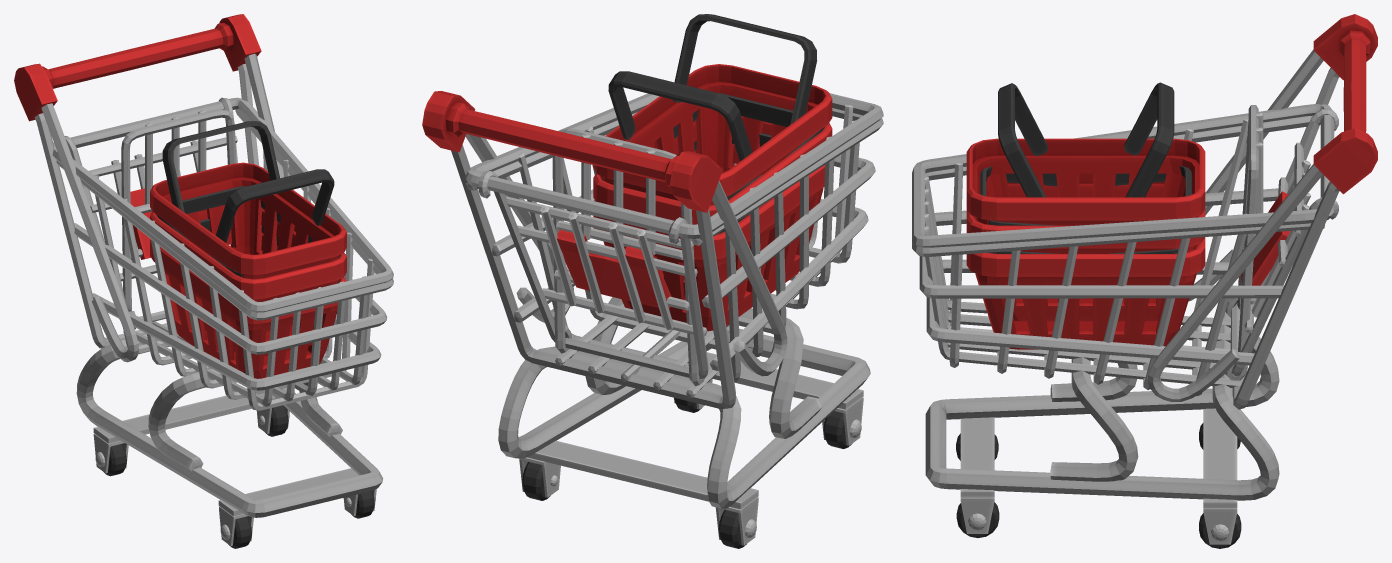
Rendered from SHOPPIING CART.fbx.
The picture shows the model from 3 angles, left to right: view 1: azimuth 30°, elevation 25°; view 2: azimuth 150°, elevation 25°; view 3: azimuth 270°, elevation 25°; orthographic projection. The views are drawn at different scales.
Visible parts, largest first — view 1: Shopping_Cart_Shopping_Cart_0, Hand.003_Shopping_Basket_Green_2, Hand_Shopping_Cart_0, Metal.002_Shopping_Cart_0, Metal.001_Shopping_Cart_0, Plastic_Shopping_Cart_0, Axis.003_Shopping_Cart_0, Axis.002_Shopping_Cart_0, Wheel.002_Shopping_Cart_0, Wheel.003_Shopping_Cart_0, Wheel.004_Shopping_Cart_0; view 2: Shopping_Cart_Shopping_Cart_0, Hand.003_Shopping_Basket_Green_2, Metal.001_Shopping_Cart_0, Hand_Shopping_Cart_0, Metal.002_Shopping_Cart_0, Plastic_Shopping_Cart_0, Axis.003_Shopping_Cart_0, Axis.002_Shopping_Cart_0, Axis.004_Shopping_Cart_0, Wheel.003_Shopping_Cart_0, Wheel.004_Shopping_Cart_0, Wheel.002_Shopping_Cart_0; view 3: Shopping_Cart_Shopping_Cart_0, Hand.003_Shopping_Basket_Green_2, Hand_Shopping_Cart_0, Metal.001_Shopping_Cart_0, Metal.002_Shopping_Cart_0, Plastic_Shopping_Cart_0, Axis.001_Shopping_Cart_0, Axis.004_Shopping_Cart_0.
Boxes of the visible parts, x1,y1,x2,y2 form: Shopping_Cart_Shopping_Cart_0: [34, 53, 393, 517]; Hand.003_Shopping_Basket_Green_2: [150, 121, 346, 378]; Hand_Shopping_Cart_0: [14, 14, 261, 121]; Metal.002_Shopping_Cart_0: [119, 109, 236, 329]; Metal.001_Shopping_Cart_0: [64, 97, 237, 321]; Plastic_Shopping_Cart_0: [130, 188, 151, 259]; Axis.003_Shopping_Cart_0: [93, 433, 128, 473]; Axis.002_Shopping_Cart_0: [219, 506, 253, 545]; Wheel.002_Shopping_Cart_0: [228, 516, 251, 548]; Wheel.003_Shopping_Cart_0: [104, 444, 126, 476]; Wheel.004_Shopping_Cart_0: [265, 405, 288, 436]; Shopping_Cart_Shopping_Cart_0: [451, 93, 883, 509]; Hand.003_Shopping_Basket_Green_2: [593, 14, 832, 331]; Metal.001_Shopping_Cart_0: [478, 171, 708, 378]; Hand_Shopping_Cart_0: [422, 91, 722, 212]; Metal.002_Shopping_Cart_0: [542, 128, 707, 386]; Plastic_Shopping_Cart_0: [557, 229, 671, 308]; Axis.003_Shopping_Cart_0: [715, 497, 758, 545]; Axis.002_Shopping_Cart_0: [822, 397, 863, 445]; Axis.004_Shopping_Cart_0: [519, 457, 560, 497]; Wheel.003_Shopping_Cart_0: [718, 510, 746, 548]; Wheel.004_Shopping_Cart_0: [522, 462, 550, 500]; Wheel.002_Shopping_Cart_0: [823, 411, 852, 448]; Shopping_Cart_Shopping_Cart_0: [912, 49, 1339, 508]; Hand.003_Shopping_Basket_Green_2: [966, 82, 1205, 349]; Hand_Shopping_Cart_0: [1313, 14, 1377, 194]; Metal.001_Shopping_Cart_0: [1230, 108, 1338, 376]; Metal.002_Shopping_Cart_0: [1225, 105, 1263, 380]; Plastic_Shopping_Cart_0: [1241, 191, 1290, 285]; Axis.001_Shopping_Cart_0: [960, 497, 994, 533]; Axis.004_Shopping_Cart_0: [1203, 508, 1237, 544].
Size of the model in its own units: 0.6902 by 1.11 by 1.1.
Materials: 2 (2 with a texture image).
